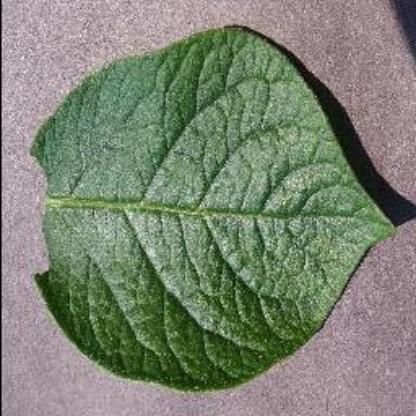Healthy-plant: (29, 25, 394, 395)
